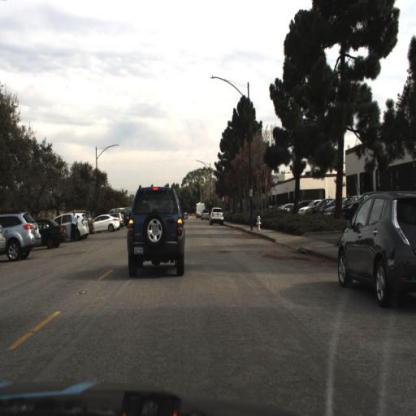car: (338, 188, 416, 307), (129, 182, 189, 278), (1, 209, 43, 263), (54, 213, 94, 242), (38, 218, 69, 252), (43, 216, 68, 252), (64, 214, 92, 244), (89, 213, 122, 233), (209, 206, 225, 230)
pedestrian: (70, 208, 80, 243), (70, 210, 79, 241)
